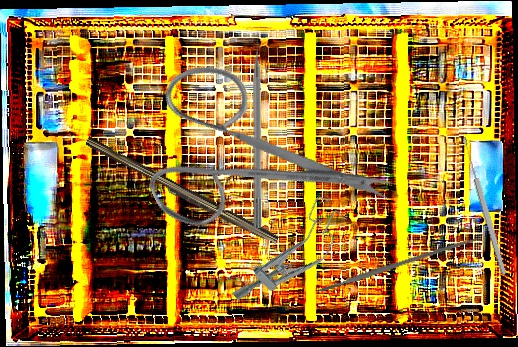Iris Scissors: (111, 11, 401, 290)
Pusher: (253, 28, 264, 228)
Scalpel Handle: (82, 136, 281, 248), (317, 235, 478, 294)
Speculum: (225, 191, 357, 322)
Surgical Spoon: (460, 136, 509, 276)
